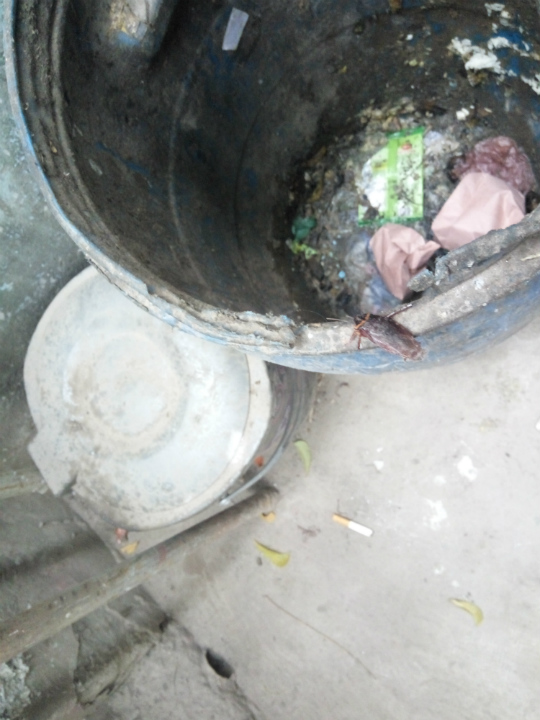cockroach: (304, 307, 449, 367)
